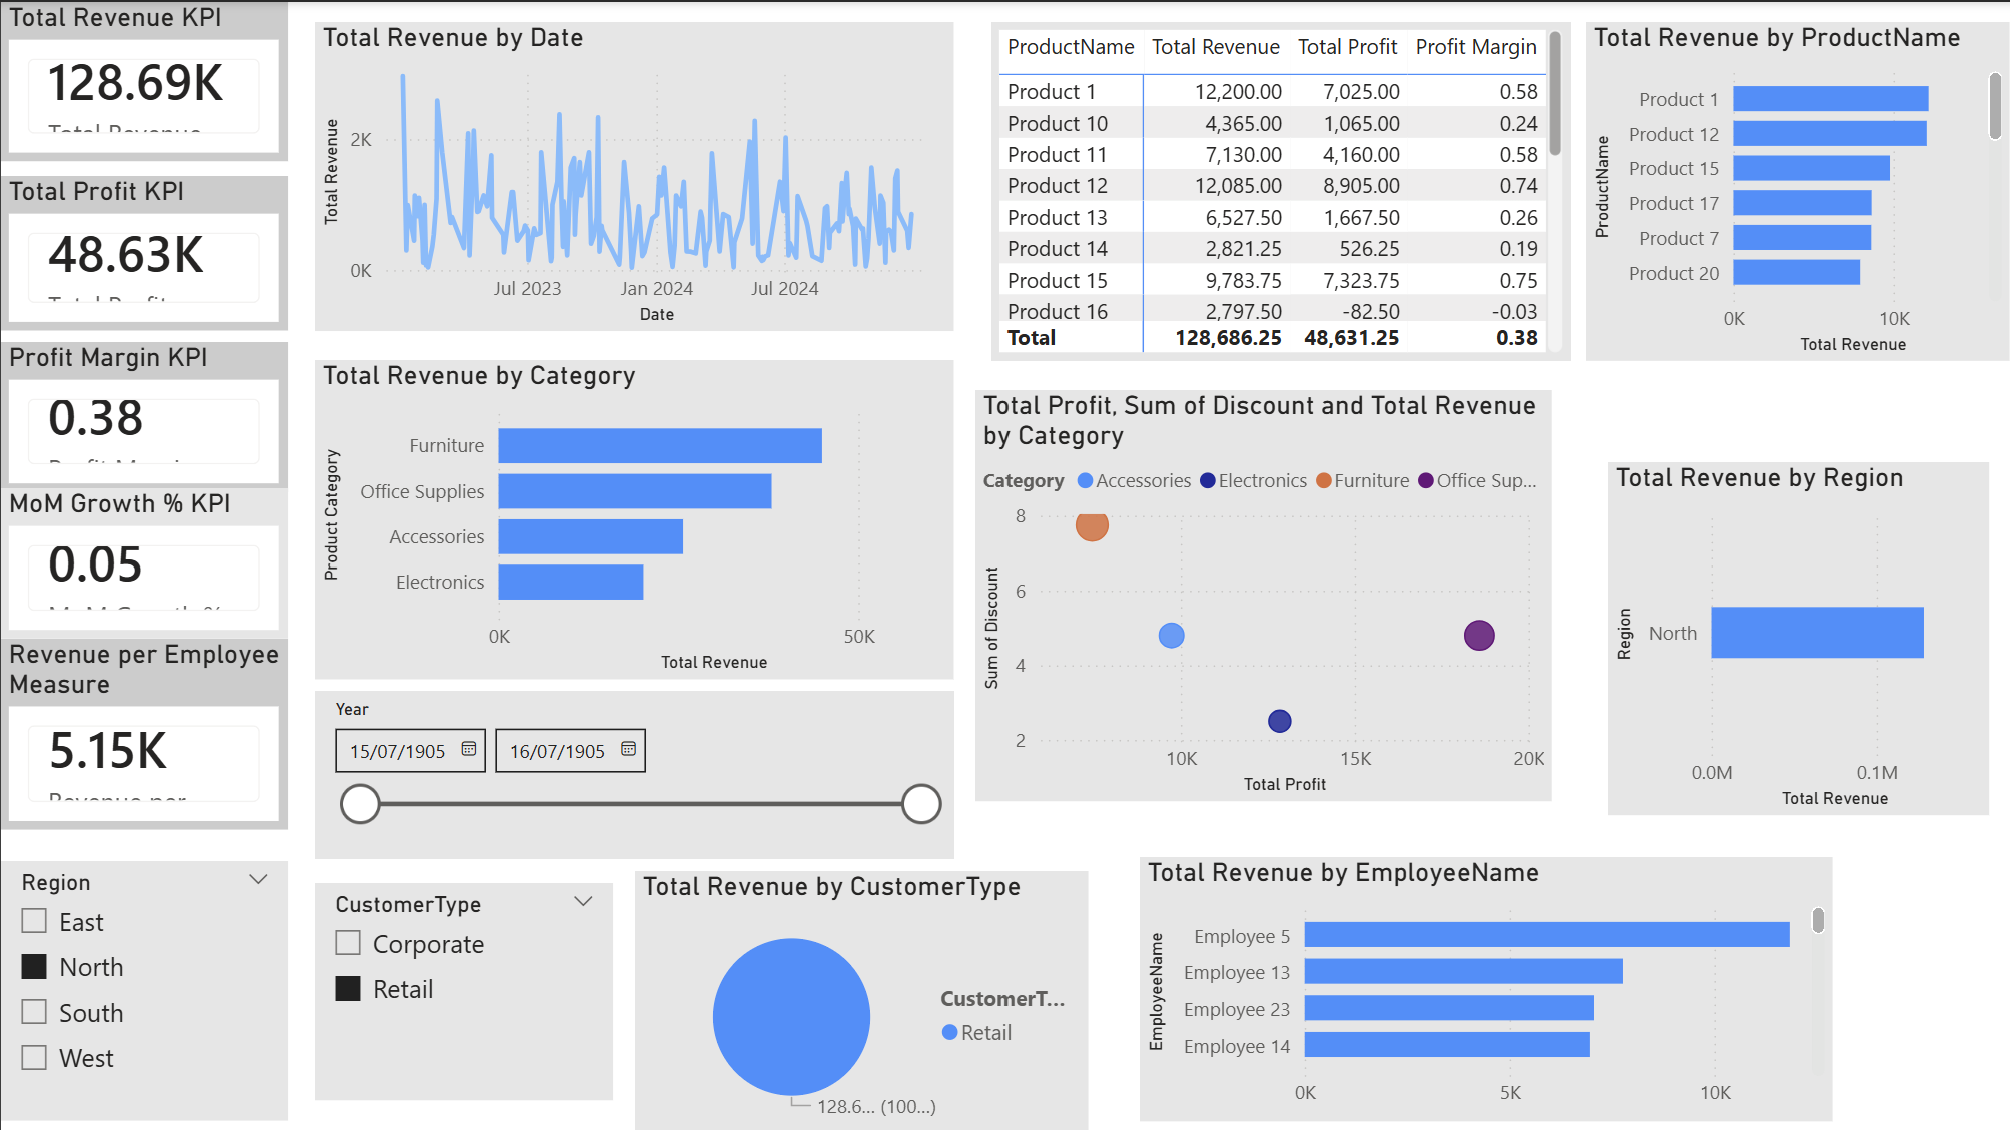

What the dashboard file says about the page in this screenshot:
{"tool":"powerbi","page":{"name":"Executive Overview","canvas":[1280,720],"ordinal":1},"visuals":[{"type":"cardVisual","title":"Total Revenue KPI","fields":{"Data":["Calendar.Total Revenue"]},"box":[0,0,182.9,101.4],"z":0},{"type":"cardVisual","title":"Profit Margin KPI","fields":{"Data":["Calendar.Profit Margin"]},"box":[0,217.1,182.9,95.7],"z":1000},{"type":"cardVisual","title":"Total Profit KPI","fields":{"Data":["Calendar.Total Profit"]},"box":[0,111.4,182.9,98.6],"z":2000},{"type":"cardVisual","title":"MoM Growth % KPI","fields":{"Data":["Calendar.MoM Growth %"]},"box":[0,310,182.9,95.7],"z":3000},{"type":"lineChart","fields":{"Category":["Calendar.Date"],"Y":["Calendar.Total Revenue"]},"box":[200,12.9,407.1,197.1],"z":3001},{"type":"clusteredBarChart","fields":{"Category":["Products.Category"],"Y":["Calendar.Total Revenue"]},"box":[200,228.6,407.1,202.9],"z":3002},{"type":"slicer","fields":{"Values":["Calendar.Year"]},"box":[200,438.6,407.1,107.1],"z":3003},{"type":"slicer","fields":{"Values":["Customers.CustomerType"]},"box":[200,561.4,190,138.6],"z":3004},{"type":"slicer","fields":{"Values":["Customers.Region"]},"box":[0,547.1,182.9,165.7],"z":3005},{"type":"pivotTable","fields":{"Rows":["Products.ProductName"],"Values":["Calendar.Total Revenue","Calendar.Total Profit","Calendar.Profit Margin"]},"box":[631.4,12.9,368.6,215.7],"z":3006},{"type":"barChart","fields":{"Category":["Products.ProductName"],"Y":["Calendar.Total Revenue"]},"box":[1010,13,270,216],"z":3007},{"type":"scatterChart","fields":{"X":["Calendar.Total Profit"],"Y":["Sum(Sales.Discount)"],"Size":["Calendar.Total Revenue"],"Series":["Products.Category"]},"box":[621.4,247.1,367.1,261.4],"z":3008},{"type":"barChart","fields":{"Category":["Employees.EmployeeName"],"Y":["Calendar.Total Revenue"]},"box":[725.7,544.3,441.4,168.6],"z":3009},{"type":"cardVisual","title":"Revenue per Employee Measure","fields":{"Data":["Calendar.Revenue per Employee"]},"box":[0,405.7,182.9,121.4],"z":3010},{"type":"pieChart","fields":{"Category":["Customers.CustomerType"],"Y":["Calendar.Total Revenue"]},"box":[404.3,552.9,288.6,167.1],"z":3012},{"type":"barChart","fields":{"Category":["Customers.Region"],"Y":["Calendar.Total Revenue"]},"box":[1024.3,292.9,242.9,224.3],"z":3013}]}

Visuals, with their boxes in screenshot pixels (x1, y1, x2, y2), scaled from the page's 1280x720 canvas onto the 2010x1130 screenshot:
"Total Revenue KPI" cardVisual: 0,0,287,159
"Profit Margin KPI" cardVisual: 0,341,287,491
"Total Profit KPI" cardVisual: 0,175,287,330
"MoM Growth % KPI" cardVisual: 0,487,287,637
lineChart - Calendar.Date x Calendar.Total Revenue: 314,20,953,330
clusteredBarChart - Products.Category x Calendar.Total Revenue: 314,359,953,677
slicer - Calendar.Year: 314,688,953,856
slicer - Customers.CustomerType: 314,881,612,1099
slicer - Customers.Region: 0,859,287,1119
pivotTable - Products.ProductName x Calendar.Total Revenue: 991,20,1570,359
barChart - Products.ProductName x Calendar.Total Revenue: 1586,20,2009,359
scatterChart - Calendar.Total Profit x Sum(Sales.Discount): 976,388,1552,798
barChart - Employees.EmployeeName x Calendar.Total Revenue: 1140,854,1833,1119
"Revenue per Employee Measure" cardVisual: 0,637,287,827
pieChart - Customers.CustomerType x Calendar.Total Revenue: 635,868,1088,1129
barChart - Customers.Region x Calendar.Total Revenue: 1608,460,1990,812
